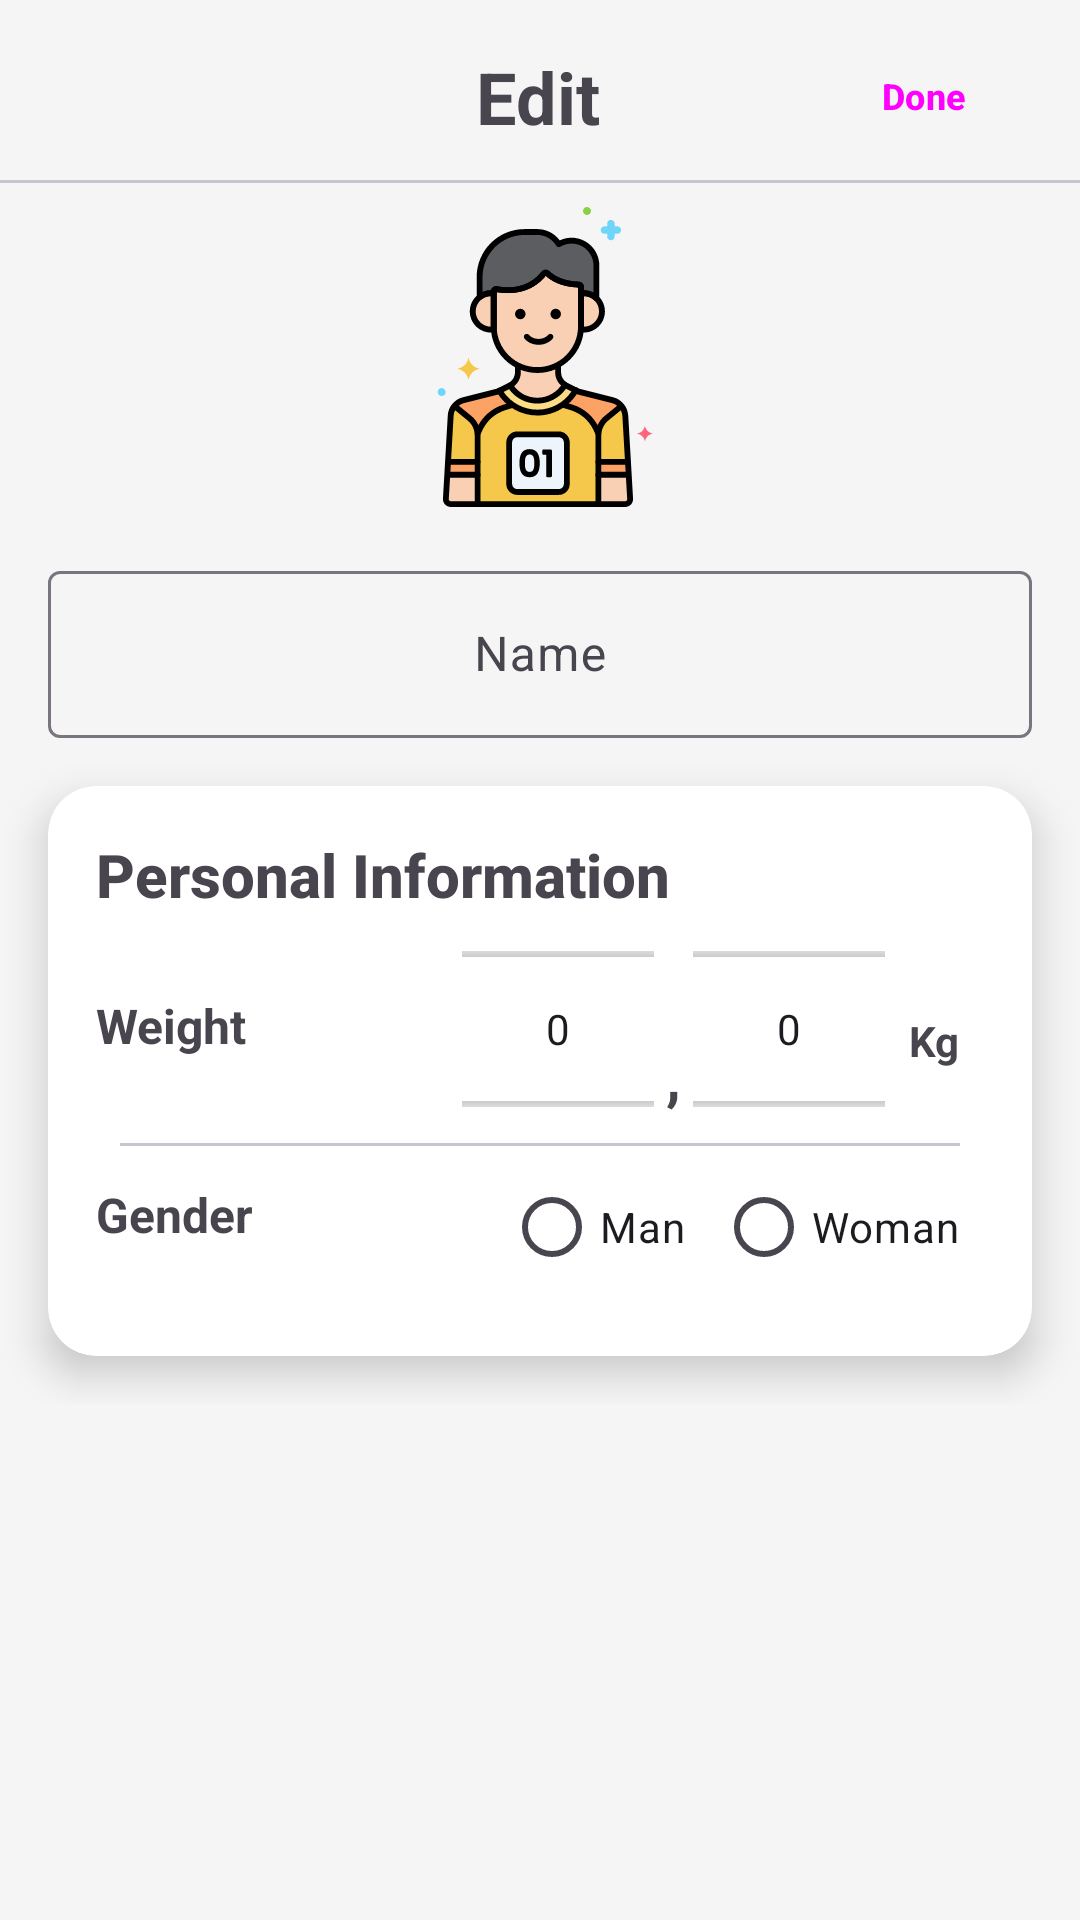

Named icons in this screenshot (1080 × 1920) and their centers, point (x, y):
runner man: point (545, 357)
